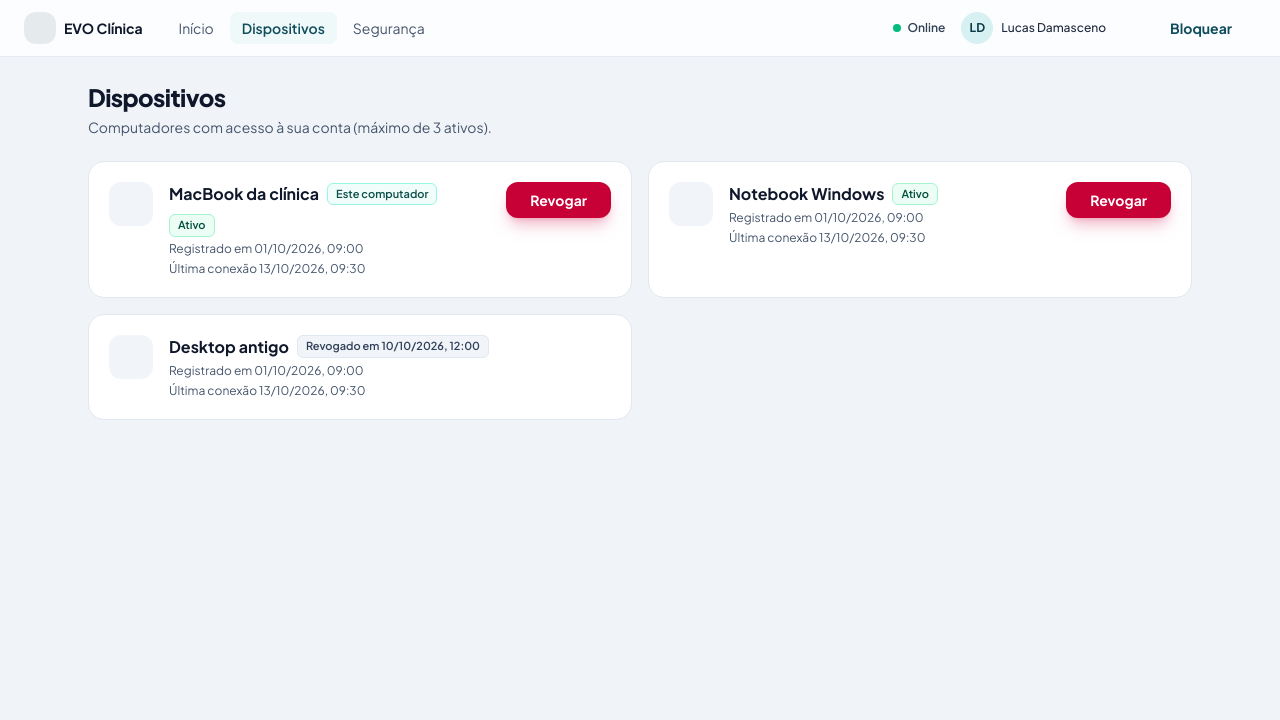
Scenario: DispositivosTela › modal de revogação › DISPOSITIVO_NAO_ENCONTRADO avisa e atualiza a lista
Click the button with aria-label "Revogar Notebook Windows" at coordinates (1119, 200), box x1=1066 y1=182 x2=1171 y2=218
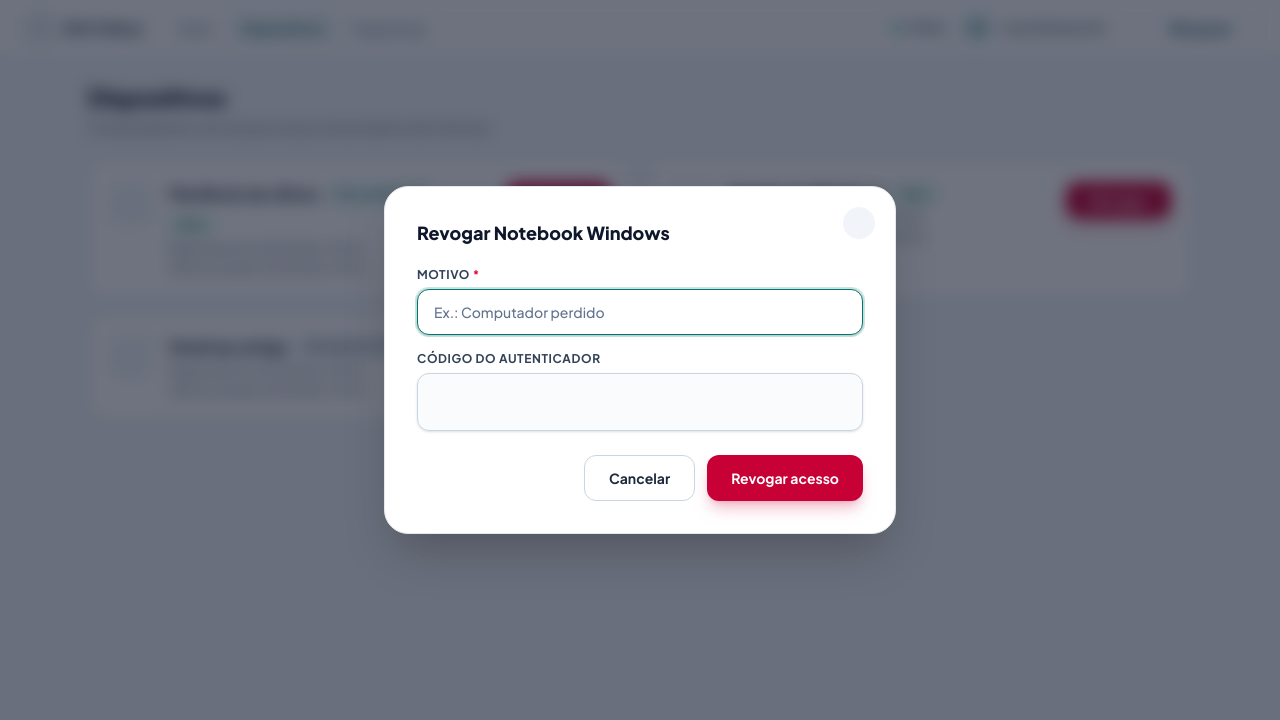
Type "Computador perdido" into the field labelled "Motivo *" at coordinates (640, 312), box x1=417 y1=289 x2=863 y2=335
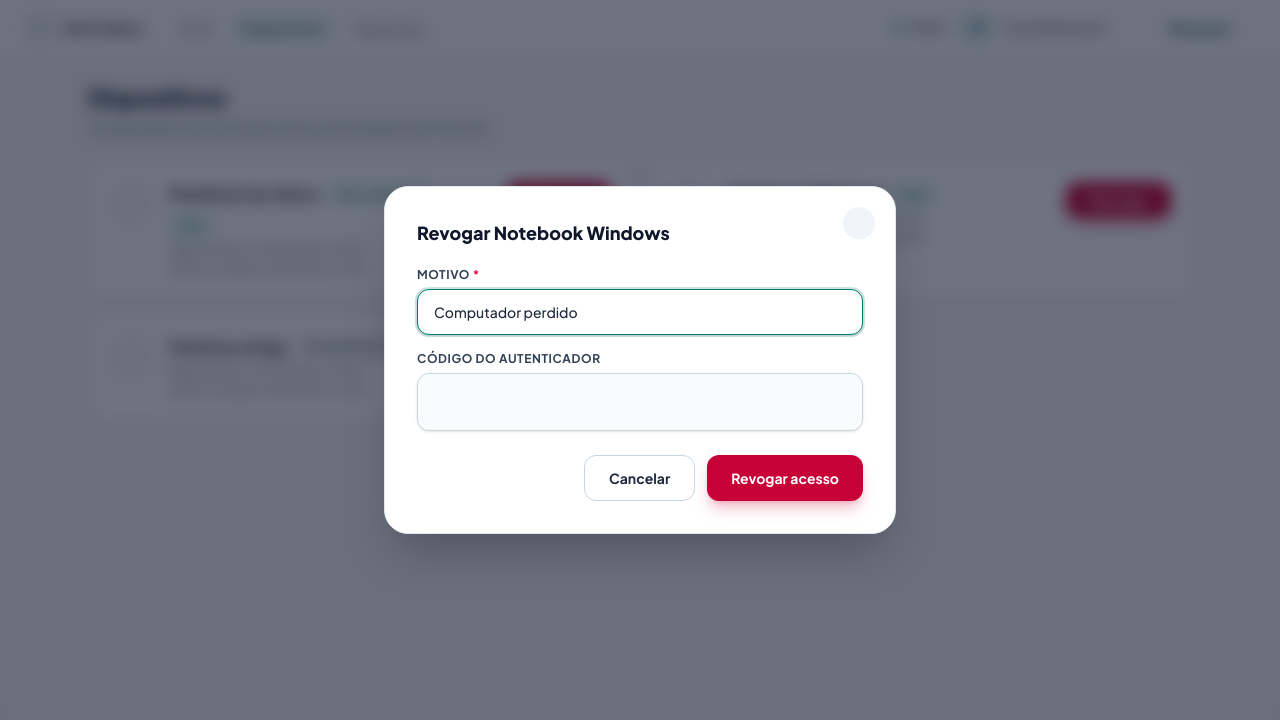
Type "123456" into the field labelled "Código do autenticador" at coordinates (640, 402), box x1=417 y1=373 x2=863 y2=431
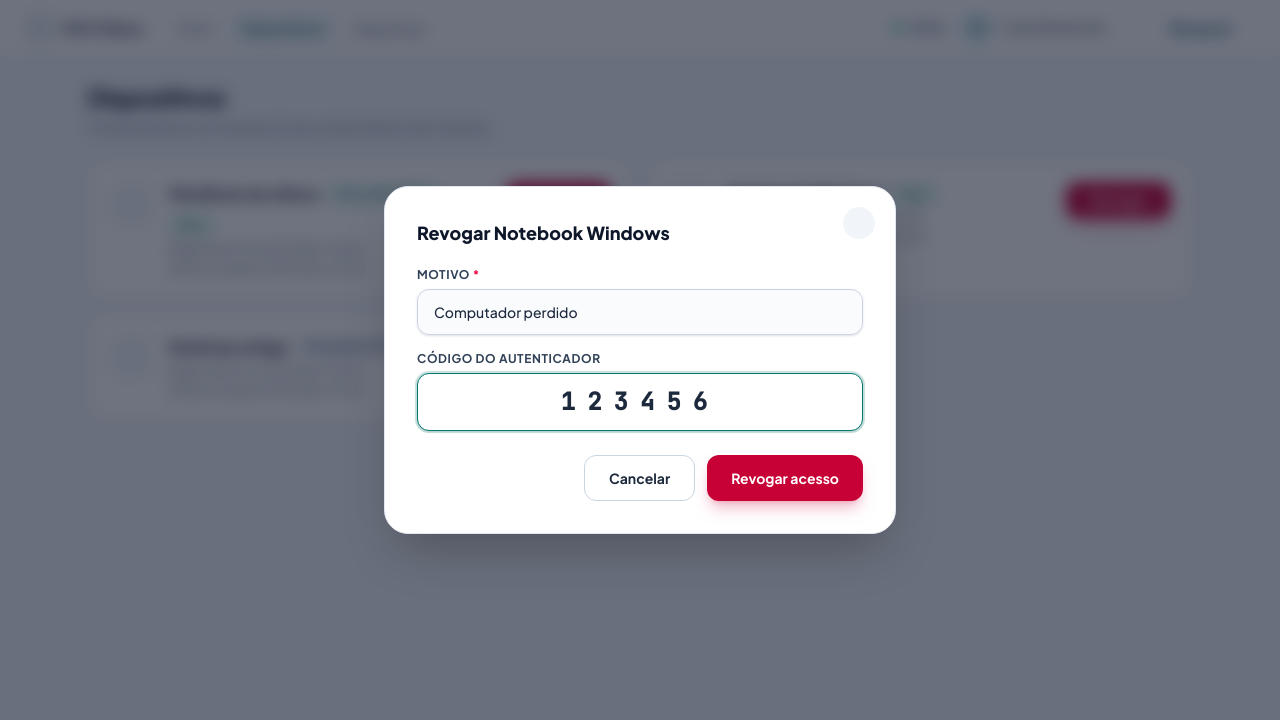
Click the button "Revogar acesso" at coordinates (785, 478), box x1=707 y1=455 x2=863 y2=501
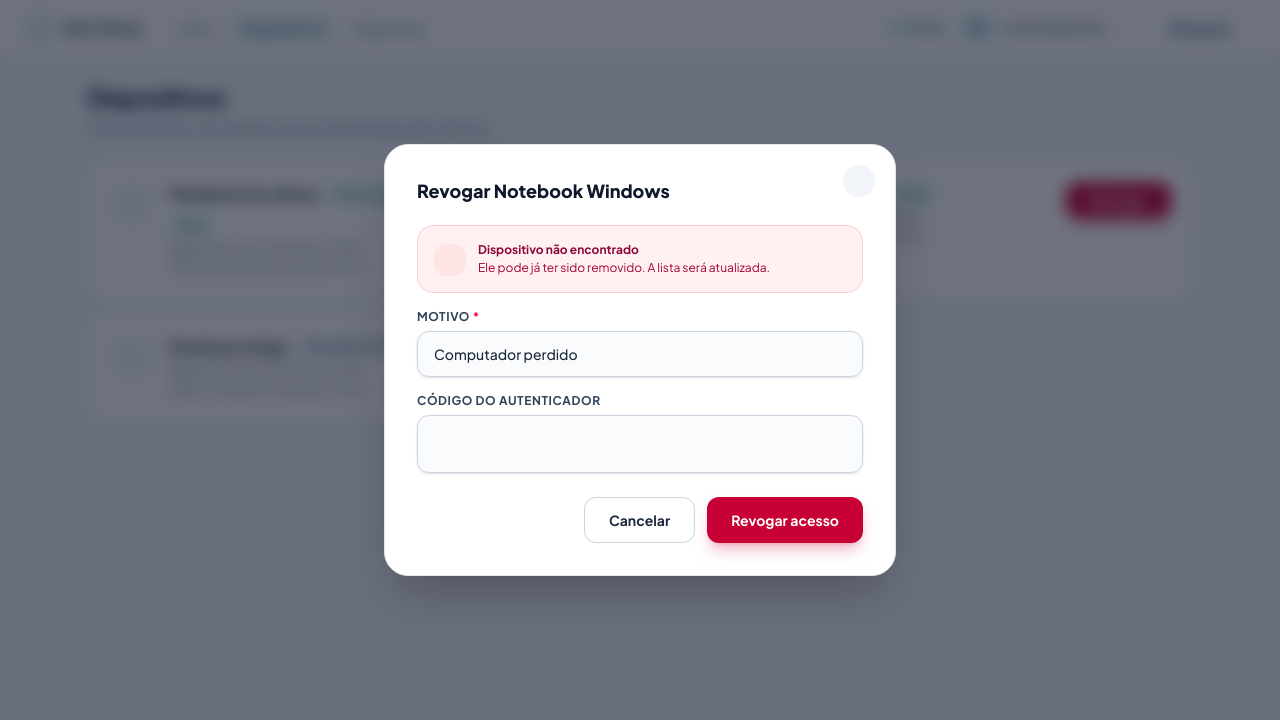
Check: the heading "Dispositivo não encontrado" is shown, box x1=478 y1=242 x2=639 y2=257
